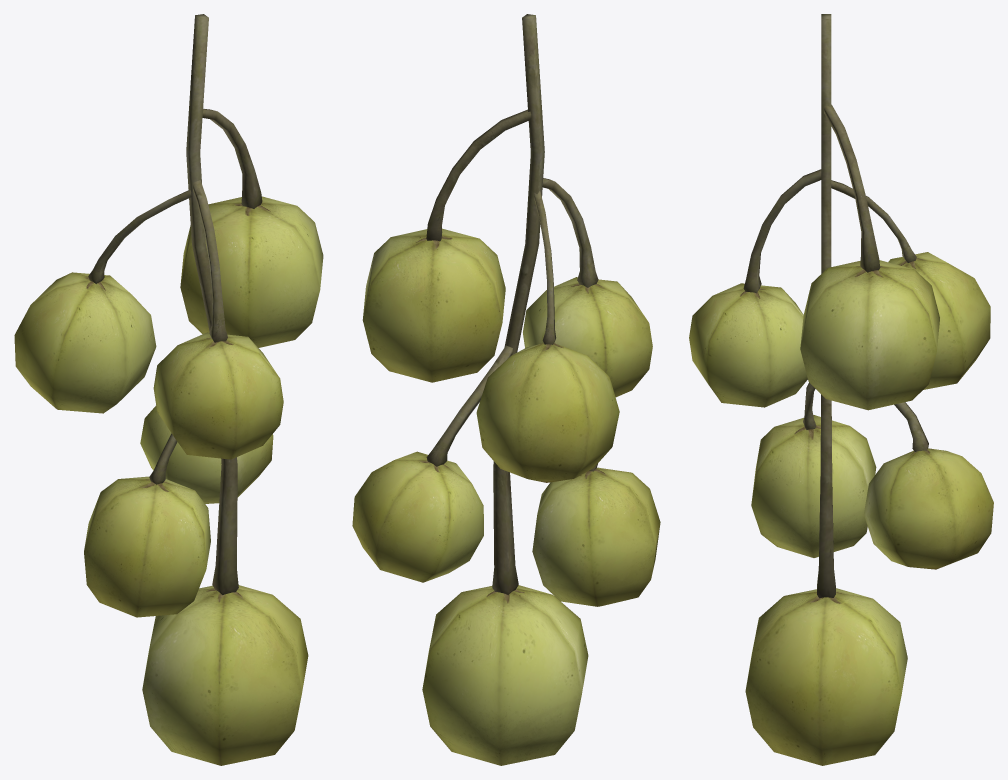
The model's file is Ostodes paniculata Fruit.fbx.
The picture shows the model from 3 angles, left to right: view 1: azimuth 30°, elevation 25°; view 2: azimuth 150°, elevation 25°; view 3: azimuth 270°, elevation 25°; orthographic projection. The views are drawn at different scales.
Visible parts, largest first — view 1: Fruit_LOD0; view 2: Fruit_LOD0; view 3: Fruit_LOD0.
Boxes of the visible parts, box(x1,y1,x2,y2) form: Fruit_LOD0: box(14, 14, 323, 765); Fruit_LOD0: box(352, 14, 660, 765); Fruit_LOD0: box(689, 14, 993, 765).
Size of what is drawn, in the model's own units: 12.92 by 34.54 by 13.11.
